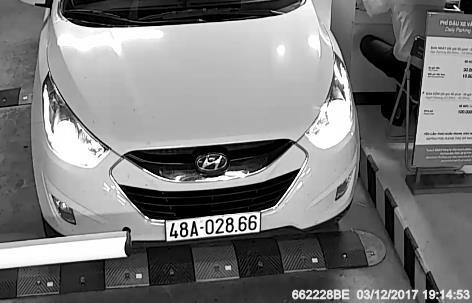License-plate: (158, 207, 269, 246)
